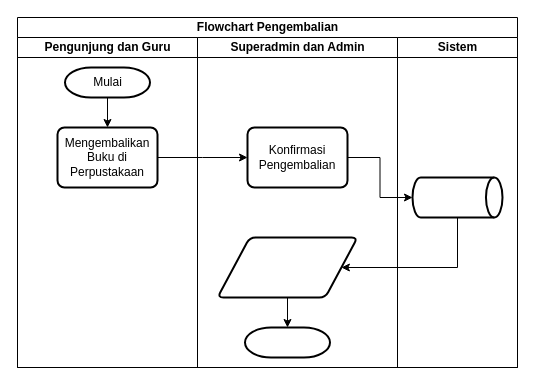
The diagram is 535 pixels wide and 385 high, and some of its shapes have lost their labels. The centre of each missing label's shape, as x and y in pixels:
Input Database: pixel 457 197
Menampilkan Koleksi yang dikembalikan: pixel 287 267
Selesai: pixel 287 342
